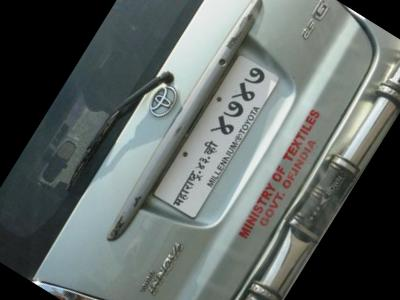plate: (138, 31, 303, 230)
